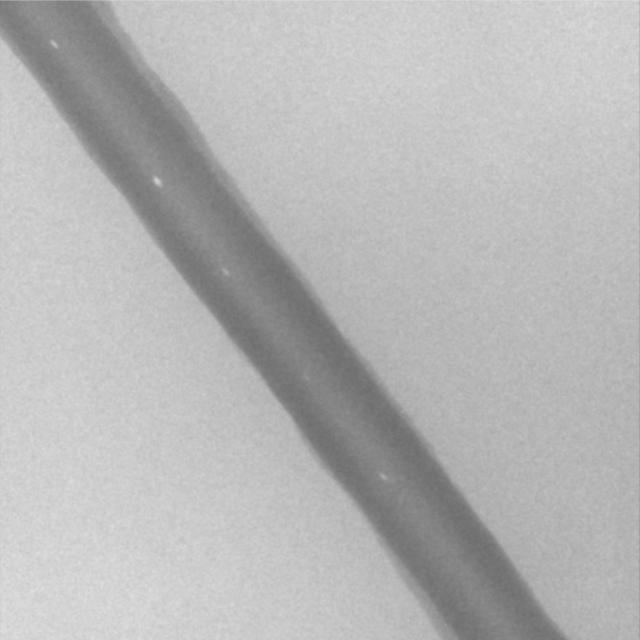air hole: (218, 264, 230, 278), (150, 174, 162, 186), (48, 39, 58, 51), (377, 472, 388, 482)
